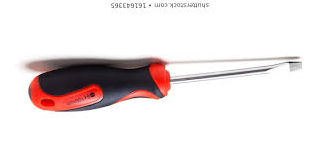Screwdriver: (26, 46, 307, 124)
